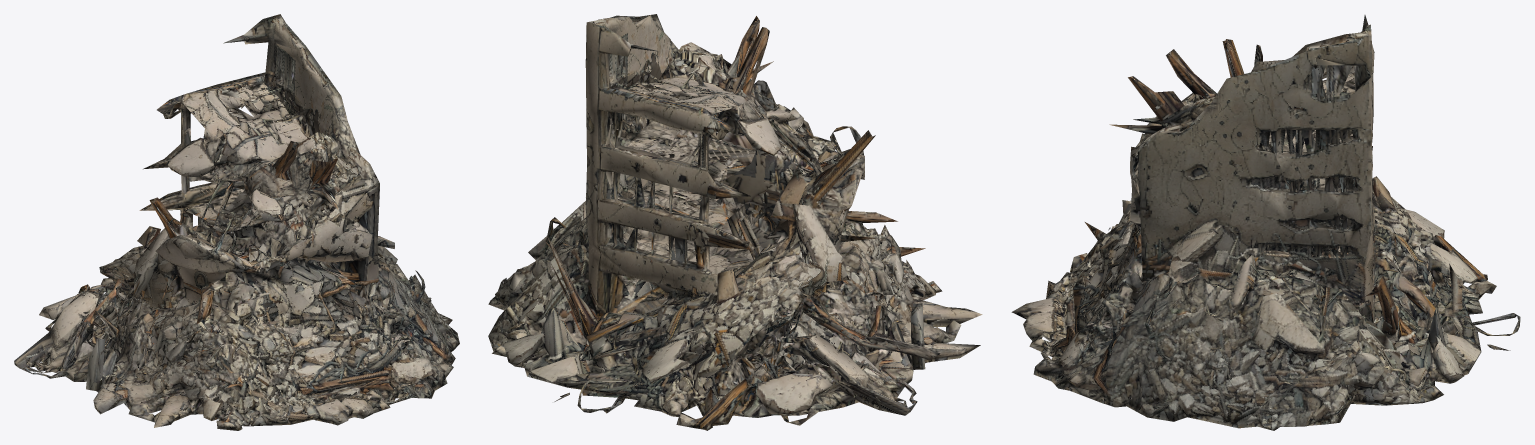
Rendered from Rubble.fbx.
3 renders of one model, left to right at view 1: azimuth 30°, elevation 25°; view 2: azimuth 150°, elevation 25°; view 3: azimuth 270°, elevation 25°, orthographic. The views are drawn at different scales.
Parts seen in each view (by area): view 1: texture_mapping; view 2: texture_mapping; view 3: texture_mapping.
Part boxes in pixels (box(x1,y1,x2,y2)): texture_mapping: box(14, 14, 459, 430); texture_mapping: box(488, 14, 982, 430); texture_mapping: box(1011, 15, 1520, 430).
Size of the model in its own units: 0.9297 by 0.9004 by 0.6694.
Materials: 1 (1 with a texture image).
